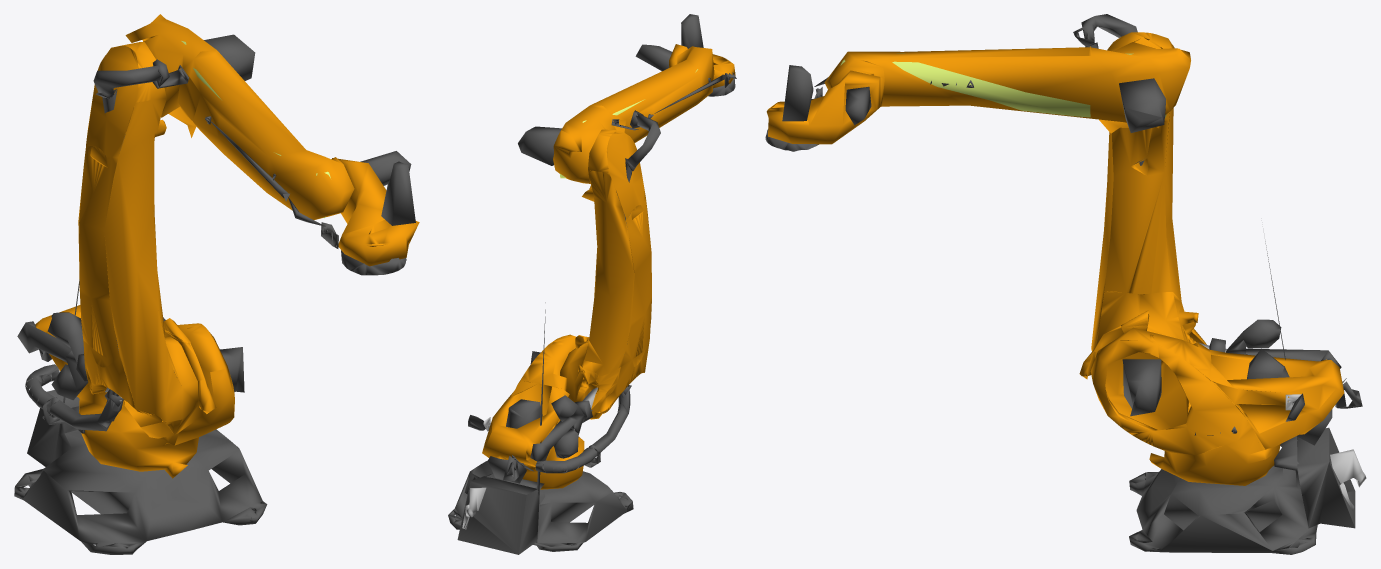
3 renders of one model, left to right at view 1: azimuth 30°, elevation 25°; view 2: azimuth 150°, elevation 25°; view 3: azimuth 270°, elevation 25°, orthographic. The views are drawn at different scales.
Parts seen in each view (by area): view 1: KR 180 R3200 PA.001; view 2: KR 180 R3200 PA.001; view 3: KR 180 R3200 PA.001.
Boxes of the visible parts, x1,y1,x2,y2 form: KR 180 R3200 PA.001: [14, 14, 419, 554]; KR 180 R3200 PA.001: [448, 14, 736, 554]; KR 180 R3200 PA.001: [765, 14, 1366, 554].
Bounding box in the file's own units: 873 × 2228 × 2594.
